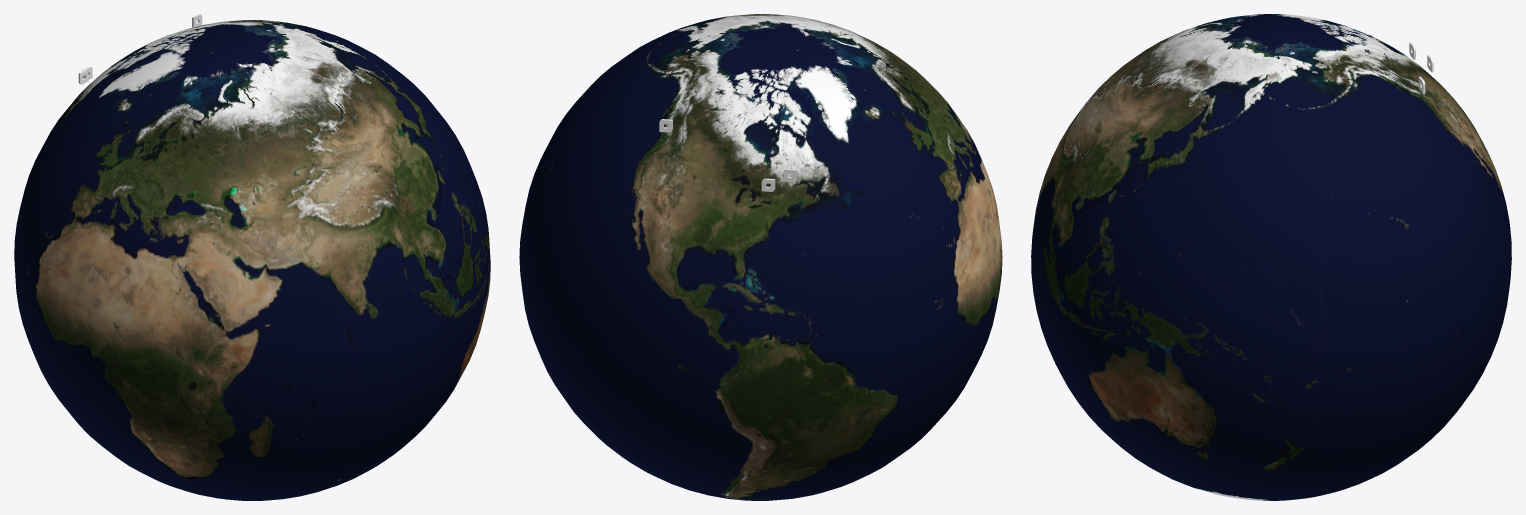
The model's file is Globe.glb.
3 views of the same model, side by side, from view 1: azimuth 30°, elevation 25°; view 2: azimuth 150°, elevation 25°; view 3: azimuth 270°, elevation 25° (orthographic).
Visible parts, largest first — view 1: Tierra; view 2: Tierra; view 3: Tierra.
Boxes of the visible parts, x1,y1,x2,y2 form: Tierra: [14, 20, 490, 500]; Tierra: [519, 14, 1002, 500]; Tierra: [1031, 14, 1511, 500].
Bounding box in the file's own units: 38.89 × 39.4 × 38.87.
2 materials, 1 textured.
